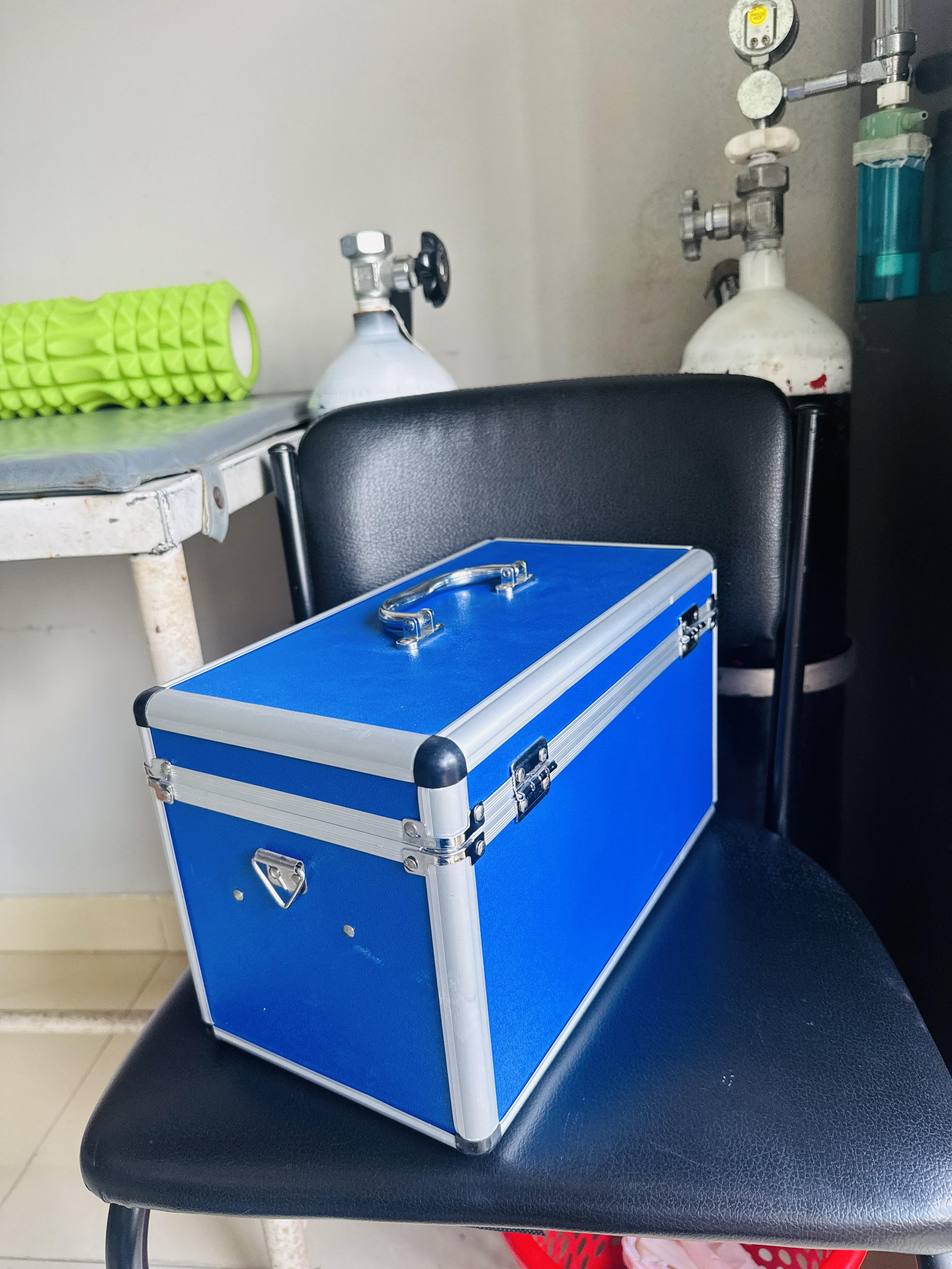FirstAidBox: (109, 502, 736, 1171)
